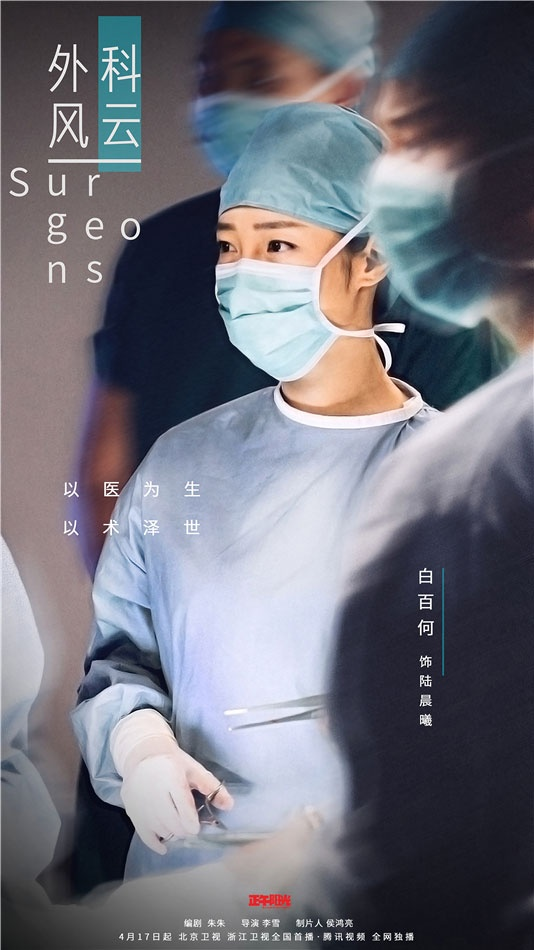Mask: (210, 208, 374, 372)
